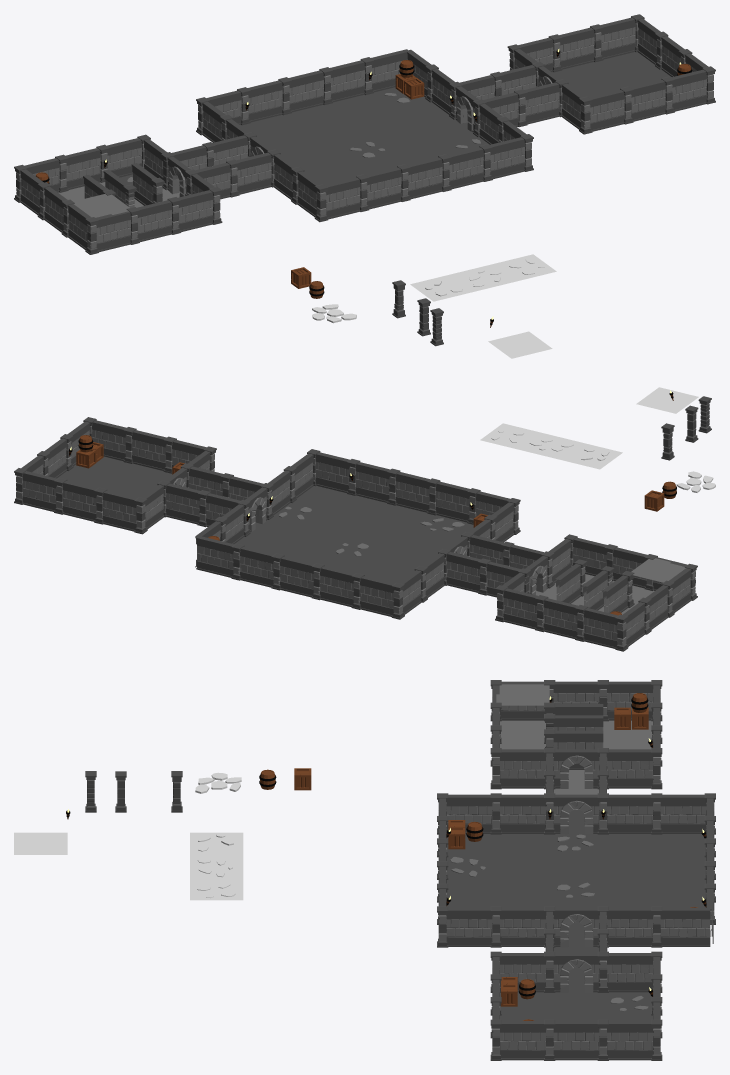
The model's file is dungeon1.fbx.
3 renders of one model, top to bottom at view 1: azimuth 30°, elevation 25°; view 2: azimuth 150°, elevation 25°; view 3: azimuth 270°, elevation 25°, orthographic. The views are drawn at different scales.
Parts seen in each view (by area): view 1: Pillar.048, Pillar.021, Pillar.022, Pillar.025, Pillar.047, Pillar.020, Pillar.054, Pillar.044, Pillar.018, Pillar.026, Pillar.032, Pillar.033 (+54 smaller); view 2: Pillar.027, Pillar.037, Pillar.015, Pillar.020, Pillar.055, Pillar.021, Pillar.048, Pillar.012, Pillar.054, Pillar.026, Pillar.039, Pillar.025 (+65 smaller); view 3: Pillar.029, Pillar.052, Pillar.016, Pillar.051, Pillar.040, Pillar.013, Pillar.019, Pillar.014, Pillar.003, Pillar.030, Pillar.050, Pillar.028 (+38 smaller).
Part boxes in pixels (left/top/right/bottom): Pillar.048: left=630, top=76, right=674, bottom=121; Pillar.021: left=407, top=154, right=451, bottom=199; Pillar.022: left=448, top=144, right=492, bottom=189; Pillar.025: left=278, top=70, right=324, bottom=115; Pillar.047: left=589, top=86, right=633, bottom=131; Pillar.020: left=366, top=164, right=410, bottom=209; Pillar.054: left=559, top=24, right=603, bottom=69; Pillar.044: left=514, top=82, right=560, bottom=127; Pillar.018: left=325, top=174, right=369, bottom=219; Pillar.026: left=319, top=60, right=365, bottom=105; Pillar.032: left=137, top=197, right=181, bottom=241; Pillar.033: left=96, top=207, right=139, bottom=252; Pillar.027: left=196, top=536, right=244, bottom=580; Pillar.037: left=583, top=608, right=628, bottom=651; Pillar.015: left=360, top=576, right=404, bottom=619; Pillar.020: left=427, top=478, right=470, bottom=522; Pillar.055: left=94, top=487, right=137, bottom=531; Pillar.021: left=387, top=468, right=429, bottom=512; Pillar.048: left=123, top=427, right=166, bottom=470; Pillar.012: left=446, top=552, right=491, bottom=595; Pillar.054: left=54, top=477, right=96, bottom=521; Pillar.026: left=239, top=546, right=284, bottom=590; Pillar.039: left=503, top=588, right=548, bottom=632; Pillar.025: left=279, top=556, right=324, bottom=600; Pillar.029: left=651, top=906, right=710, bottom=947; Pillar.052: left=597, top=1019, right=653, bottom=1060; Pillar.016: left=490, top=793, right=545, bottom=834; Pillar.051: left=544, top=1019, right=599, bottom=1060; Pillar.040: left=607, top=748, right=662, bottom=789; Pillar.013: left=597, top=793, right=652, bottom=834; Pillar.019: left=490, top=906, right=545, bottom=947; Pillar.014: left=651, top=793, right=706, bottom=834; Pillar.003: left=437, top=906, right=492, bottom=947; Pillar.030: left=490, top=748, right=545, bottom=789; Pillar.050: left=491, top=1020, right=545, bottom=1060; Pillar.028: left=597, top=906, right=652, bottom=947.
Bounding box in the file's own units: 6084 × 316 × 5244.
